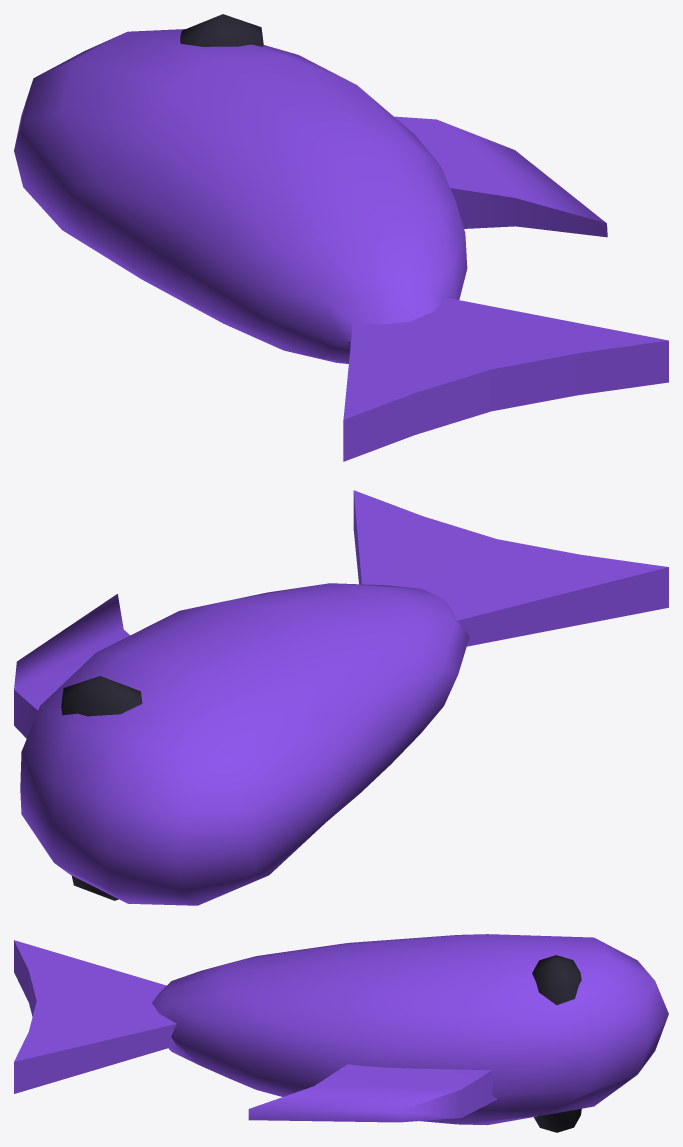
The model's file is Fish.fbx.
3 renders of one model, top to bottom at view 1: azimuth 30°, elevation 25°; view 2: azimuth 150°, elevation 25°; view 3: azimuth 270°, elevation 25°, orthographic. The views are drawn at different scales.
Parts seen in each view (by area): view 1: Fish; view 2: Fish; view 3: Fish.
Part boxes in pixels (x1=…): Fish: x1=14, y1=14, x2=668, y2=461; Fish: x1=14, y1=490, x2=668, y2=905; Fish: x1=14, y1=934, x2=668, y2=1132.
Bounding box in the file's own units: 125 × 64.69 × 218.
